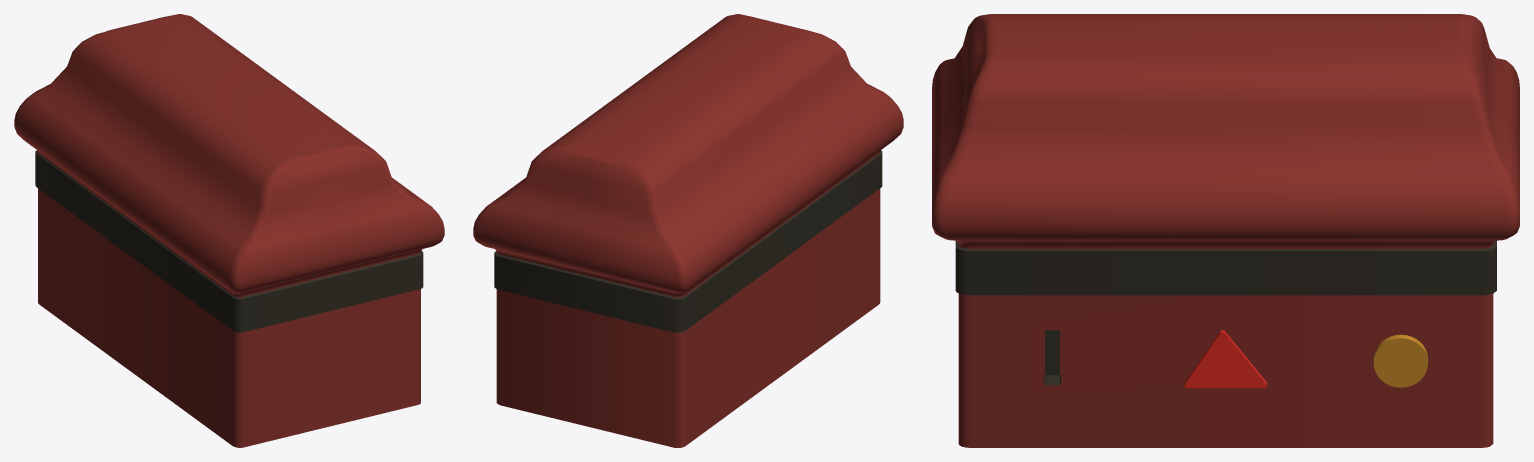
Rendered from chest.fbx.
3 views of the same model, side by side, from view 1: azimuth 30°, elevation 25°; view 2: azimuth 150°, elevation 25°; view 3: azimuth 270°, elevation 25° (orthographic). The views are drawn at different scales.
Visible parts, largest first — view 1: chest; view 2: chest; view 3: chest.
Boxes of the visible parts, box(x1,y1,x2,y2) form: chest: box(14, 14, 444, 447); chest: box(473, 14, 903, 447); chest: box(932, 14, 1519, 447).
Size of the model in its own units: 138 by 163 by 248.
